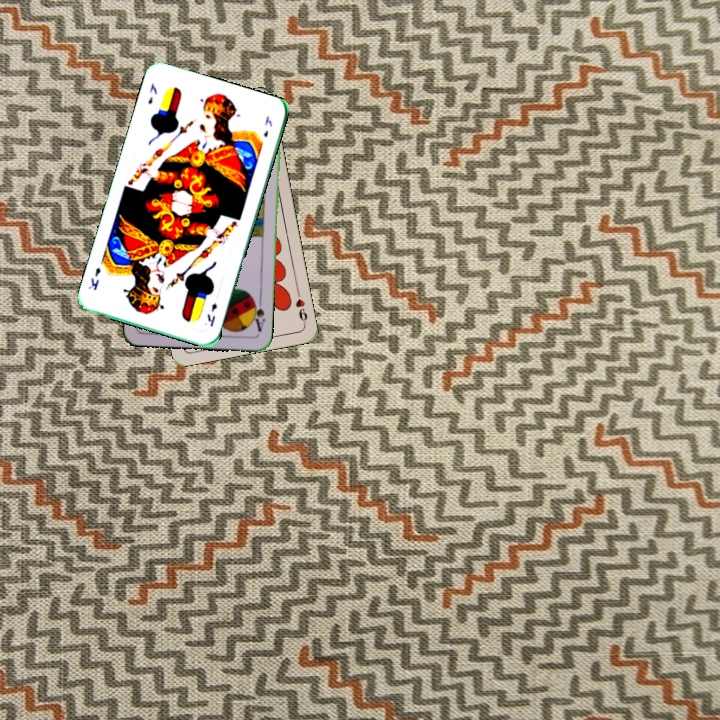EK: (203, 298, 220, 329), (144, 79, 160, 107)
H9: (291, 287, 310, 327)
SA: (248, 295, 268, 334)
